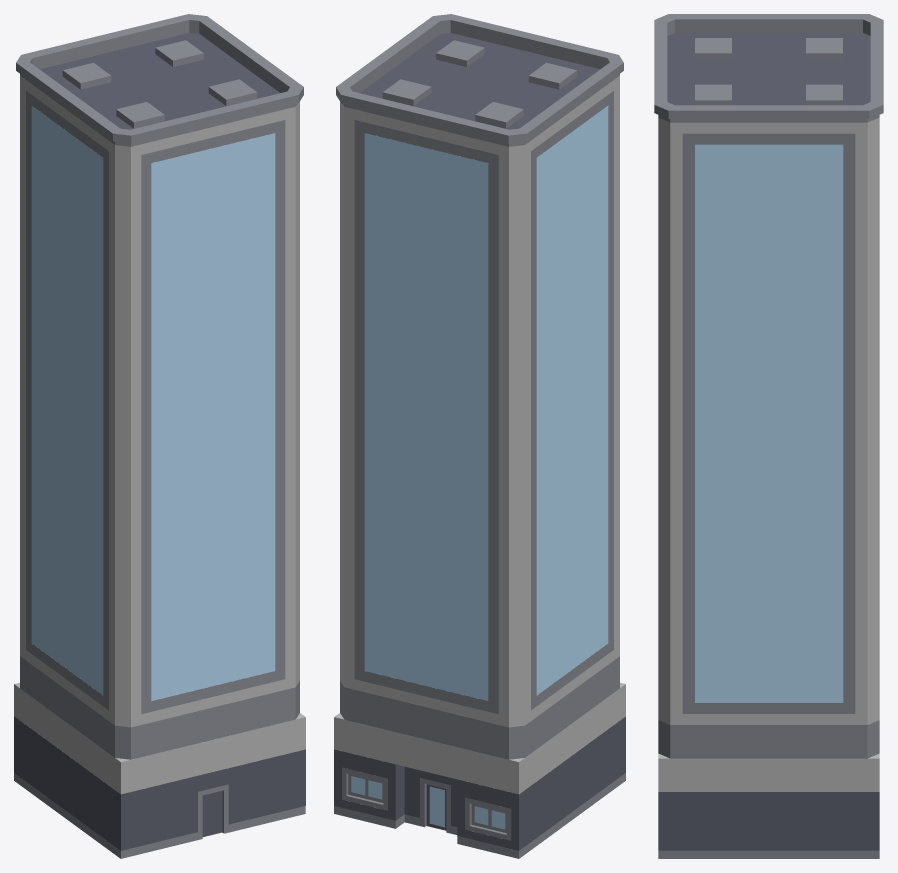
File: skyscraper.glb
The picture shows the model from 3 angles, left to right: view 1: azimuth 30°, elevation 25°; view 2: azimuth 150°, elevation 25°; view 3: azimuth 270°, elevation 25°; orthographic projection. The views are drawn at different scales.
Parts seen in each view (by area): view 1: skyscraperB; view 2: skyscraperB; view 3: skyscraperB.
Boxes of the visible parts, x1,y1,x2,y2 form: skyscraperB: (14, 14, 305, 858); skyscraperB: (334, 14, 625, 858); skyscraperB: (654, 14, 883, 858).
Bounding box in the file's own units: 1.24 × 4.48 × 1.24.
